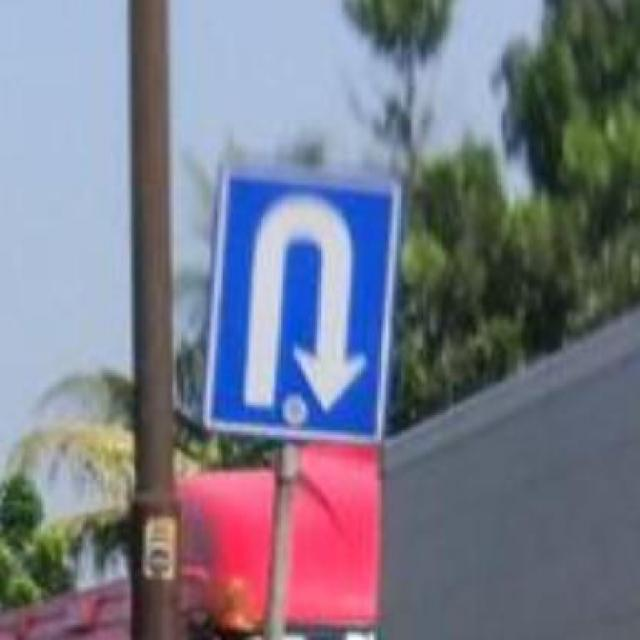traffic sign: (205, 170, 386, 432)
